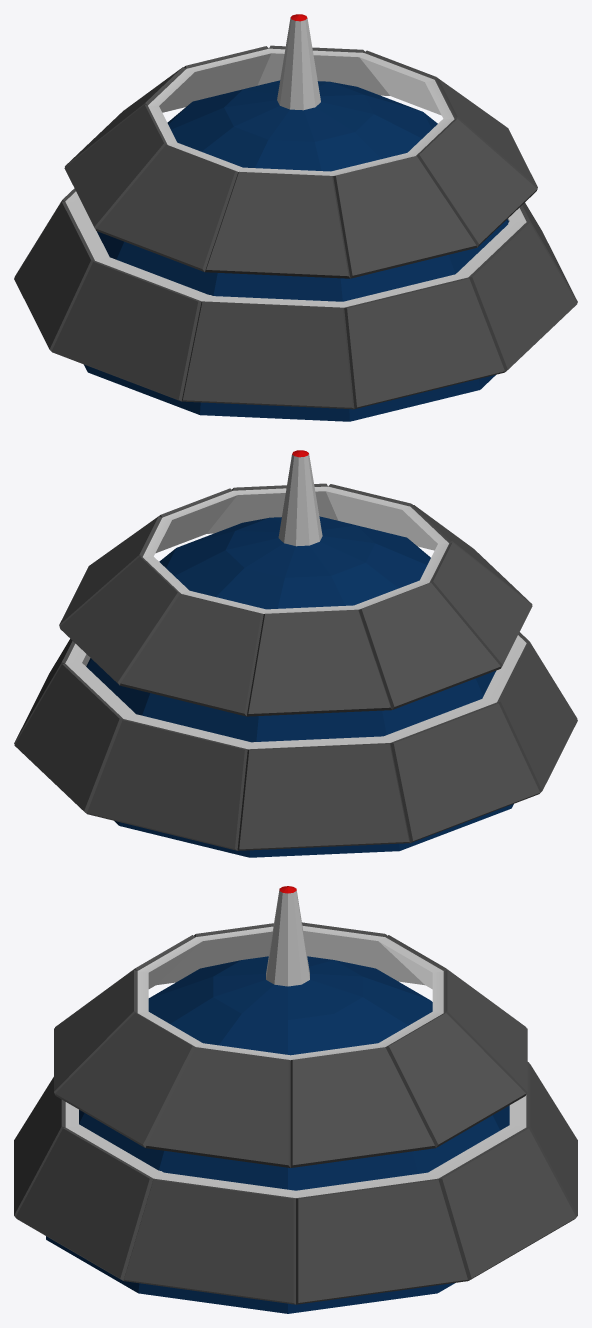
File: Solar_Dome.fbx
The picture shows the model from 3 angles, top to bottom: view 1: azimuth 30°, elevation 25°; view 2: azimuth 150°, elevation 25°; view 3: azimuth 270°, elevation 25°; orthographic projection. The views are drawn at different scales.
Visible parts, largest first — view 1: Solar_Panels1, Solar_Panels, Solar_Dome; view 2: Solar_Panels1, Solar_Panels, Solar_Dome; view 3: Solar_Panels1, Solar_Panels, Solar_Dome.
Boxes of the visible parts, x1=… form: Solar_Panels1: x1=14, y1=188, x2=577, y2=409; Solar_Panels: x1=64, y1=45, x2=537, y2=278; Solar_Dome: x1=84, y1=14, x2=508, y2=421; Solar_Panels1: x1=14, y1=632, x2=577, y2=850; Solar_Panels: x1=59, y1=483, x2=532, y2=716; Solar_Dome: x1=86, y1=450, x2=513, y2=857; Solar_Panels1: x1=14, y1=1062, x2=577, y2=1304; Solar_Panels: x1=54, y1=922, x2=527, y2=1167; Solar_Dome: x1=46, y1=886, x2=509, y2=1313.
Bounding box in the file's own units: 4.73 × 4.51 × 2.82.
